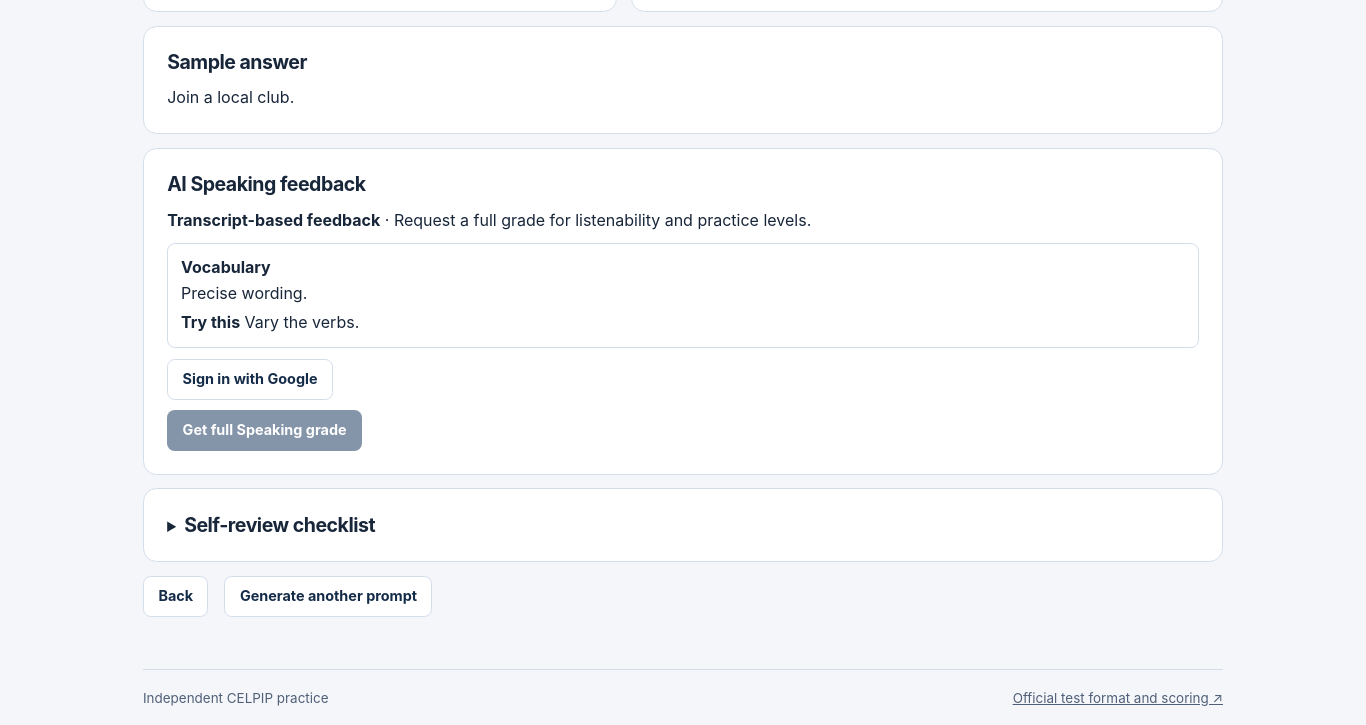
Test: keeps transcript feedback on retry and saves a successful full Speaking grade
(page scrolled)
Expected: the text "Transcript-based feedback" is shown, [167, 210, 380, 230]
Click the button "Sign in with Google" at coordinates (250, 379), box [167, 359, 333, 400]
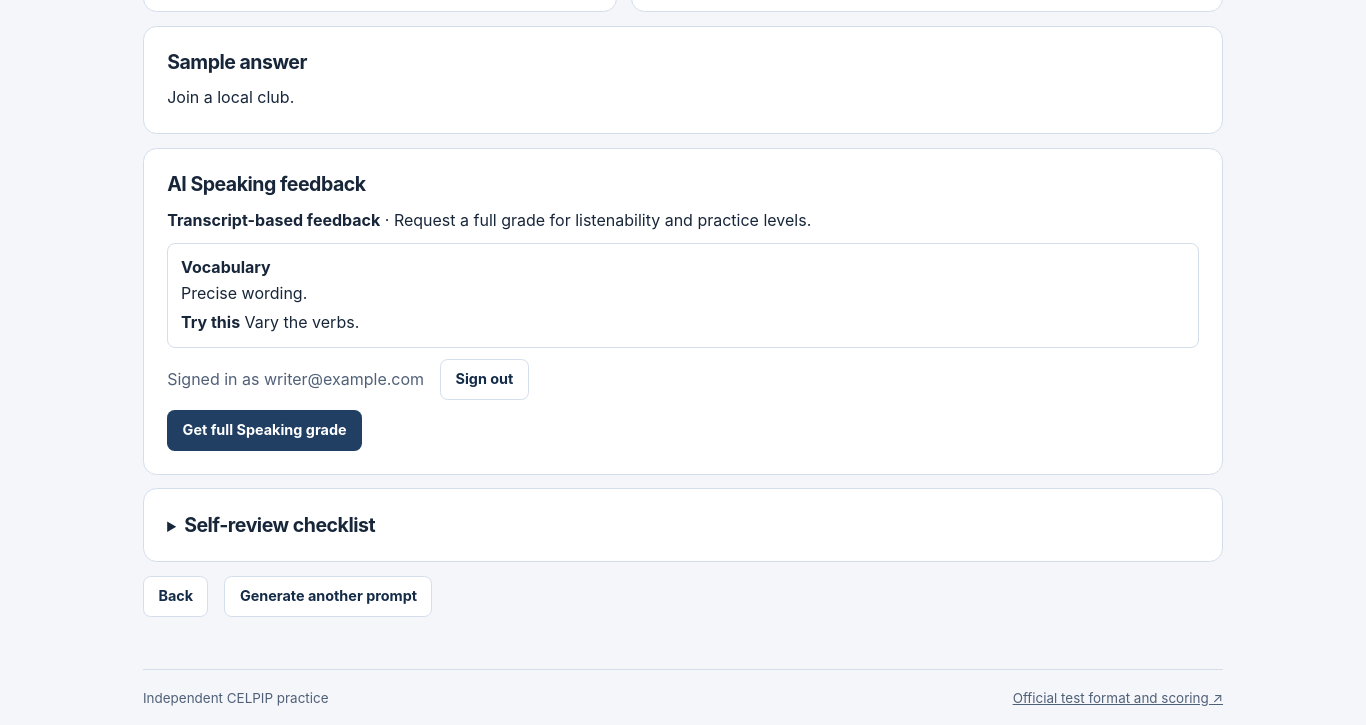
Click the button "Get full Speaking grade" at coordinates (265, 430), box [167, 410, 362, 451]
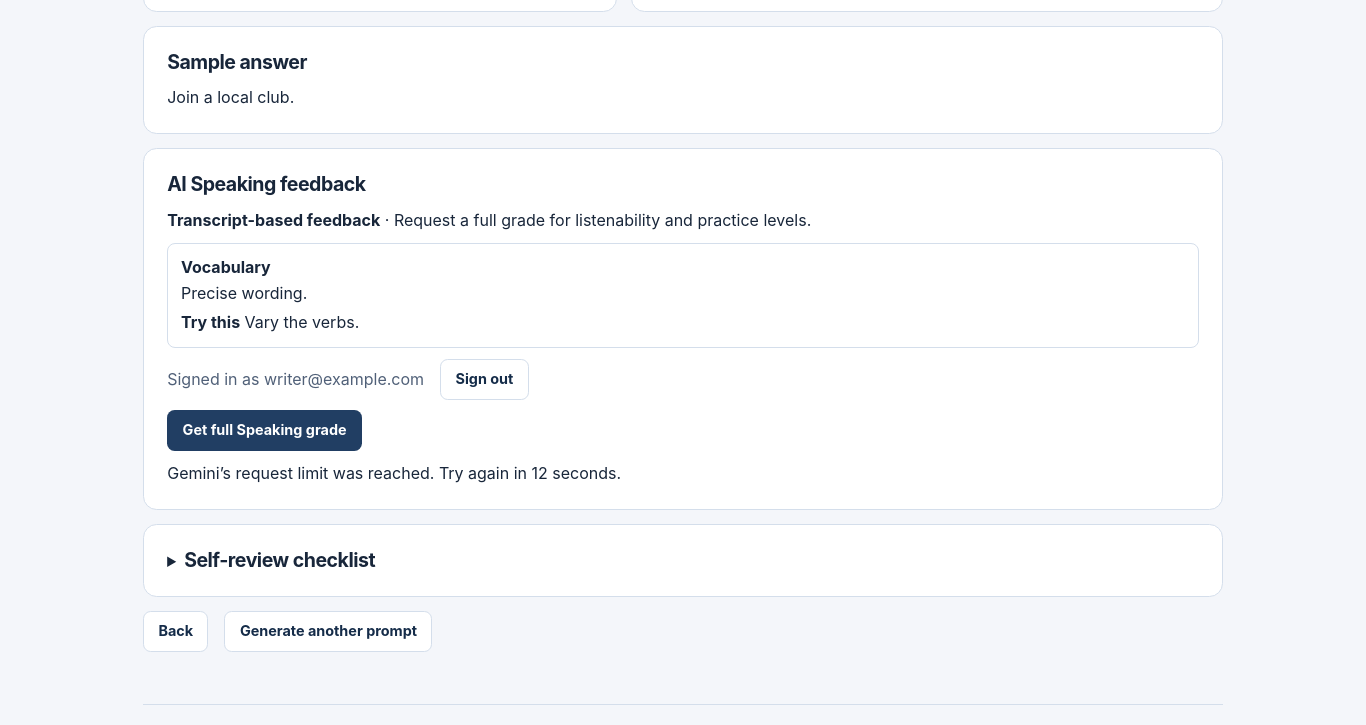
Expected: the message shows "12 seconds", [167, 463, 621, 483]
Click the button "Get full Speaking grade" at coordinates (265, 430), box [167, 410, 362, 451]
(page scrolled)
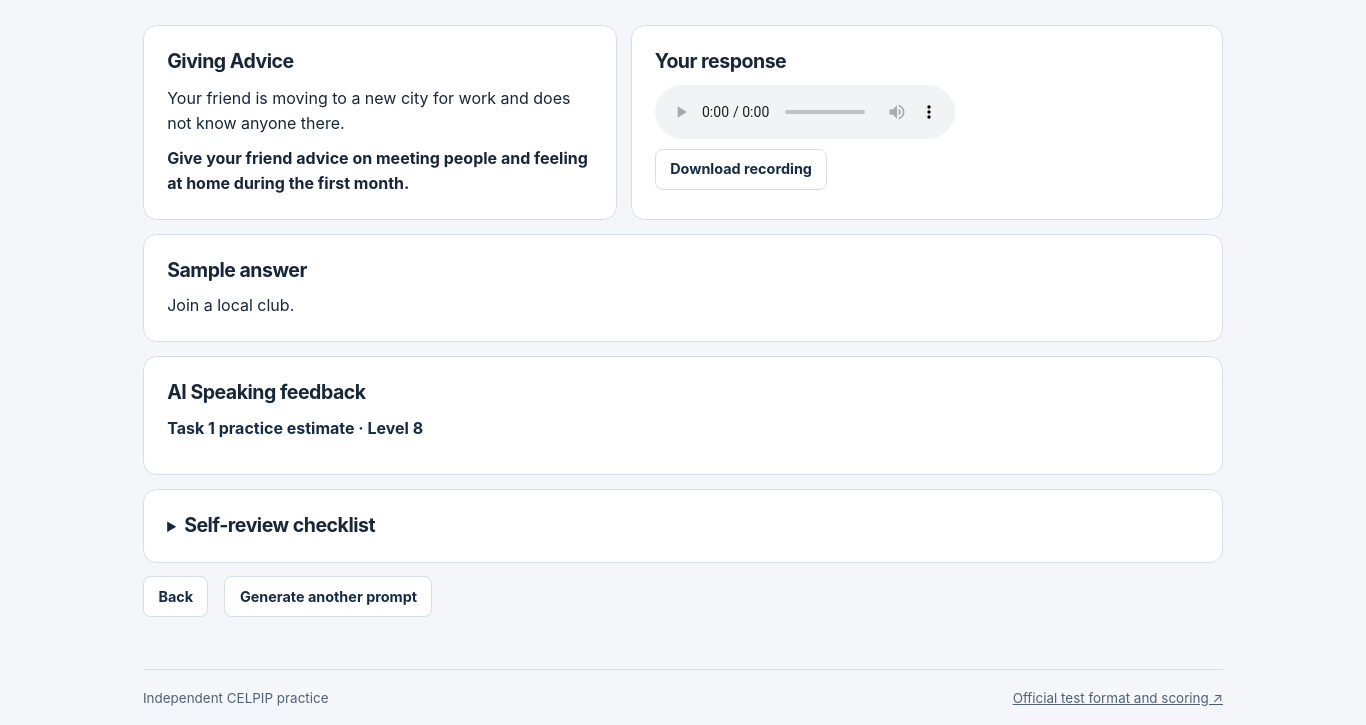
Expected: the text "Task 1 practice estimate · Level 8" is shown, [167, 416, 423, 441]
